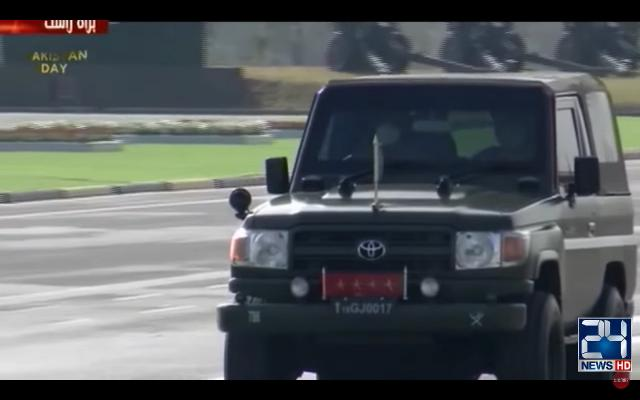plate: (327, 295, 403, 321)
